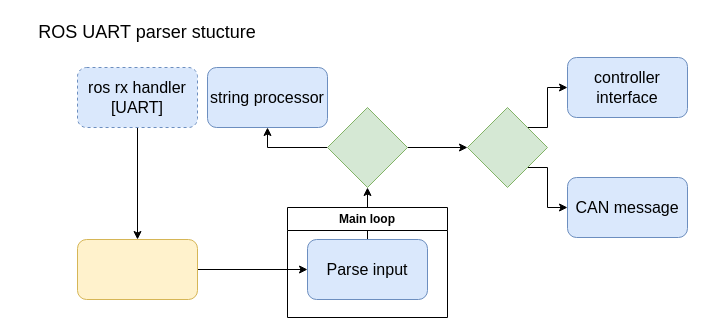
This 705x335 diagram has some shape labels left out. The centre of each missing label's shape, as x and y in pixels:
"local/ remote" goes at point (507, 147).
"rosRxBuffer" goes at point (137, 269).
"str/num" goes at point (367, 147).
